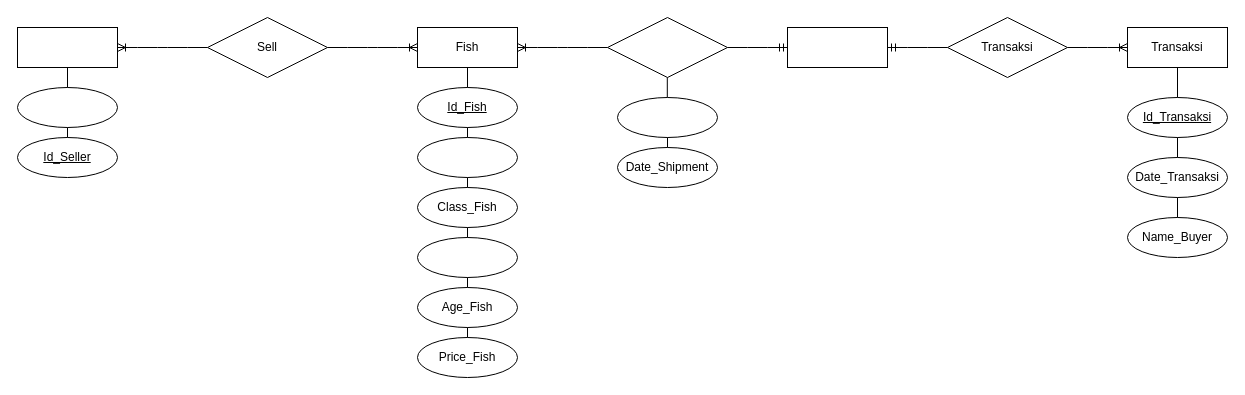
Image size: 1245x395. Some labels were removed from this diagram. Here are the shapes that lost their labels. From the top down, the box of each, then its label:
(16, 26, 118, 68): Seller
(606, 16, 728, 78): Shipment
(786, 26, 888, 68): Market
(16, 86, 118, 128): Name_Seller
(616, 96, 718, 138): Id_Shipment
(416, 136, 518, 178): Name_Fish
(416, 236, 518, 278): Region_Fish
